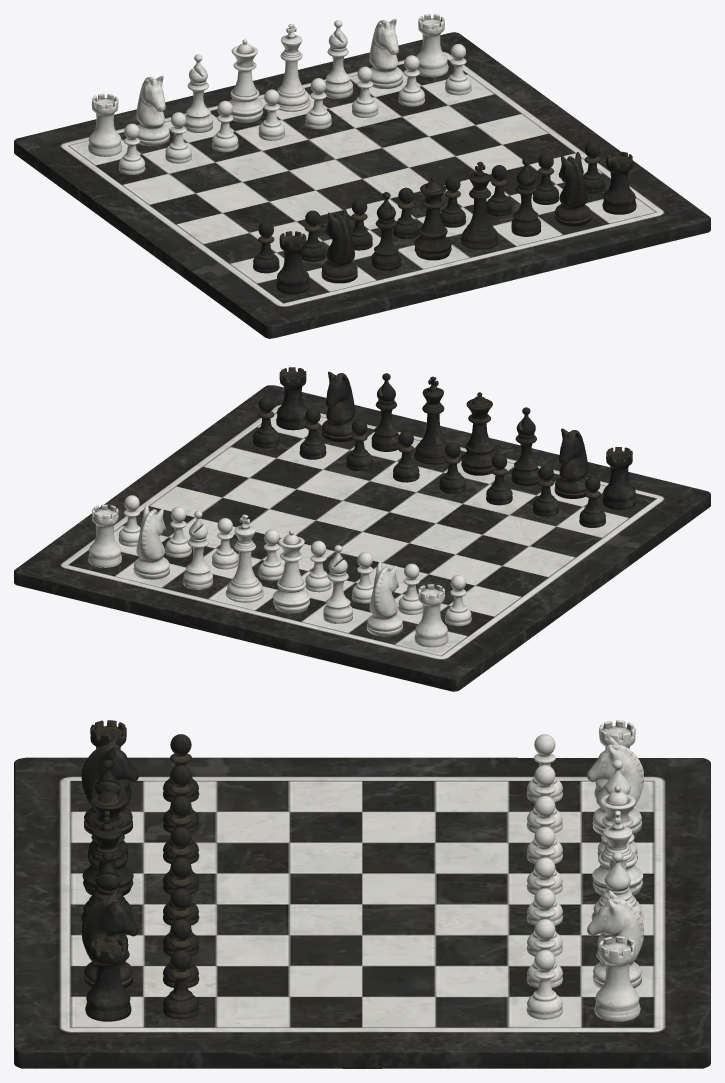
File: chess_set.glb
The picture shows the model from 3 angles, top to bottom: view 1: azimuth 30°, elevation 25°; view 2: azimuth 150°, elevation 25°; view 3: azimuth 270°, elevation 25°; orthographic projection. The views are drawn at different scales.
Visible parts, largest first — view 1: board, piece_queen_black, piece_knight_black_01, piece_knight_black_02, piece_queen_white, piece_knight_white_02, piece_knight_white_01, piece_king_black, piece_king_white, piece_rook_black_01, piece_rook_black_02, piece_rook_white_02 (+21 smaller); view 2: board, piece_queen_white, piece_knight_white_01, piece_knight_white_02, piece_queen_black, piece_knight_black_01, piece_king_white, piece_knight_black_02, piece_king_black, piece_rook_white_02, piece_rook_black_01, piece_rook_white_01 (+21 smaller); view 3: board, piece_rook_black_02, piece_rook_white_01, piece_knight_black_02, piece_knight_white_01, piece_knight_black_01, piece_knight_white_02, piece_queen_white, piece_queen_black, piece_pawn_white_01, piece_pawn_black_08, piece_king_black (+21 smaller).
Boxes of the visible parts, x1,y1,x2,y2 form: board: [14, 32, 710, 338]; piece_queen_black: [414, 177, 451, 260]; piece_knight_black_01: [321, 209, 357, 283]; piece_knight_black_02: [554, 152, 590, 226]; piece_queen_white: [228, 39, 263, 122]; piece_knight_white_02: [136, 75, 169, 145]; piece_knight_white_01: [369, 18, 402, 88]; piece_king_black: [461, 161, 499, 249]; piece_king_white: [277, 24, 310, 111]; piece_rook_black_01: [276, 231, 310, 294]; piece_rook_black_02: [602, 151, 636, 214]; piece_rook_white_02: [88, 93, 122, 156]; board: [14, 385, 710, 691]; piece_queen_white: [272, 530, 310, 613]; piece_knight_white_01: [133, 505, 169, 579]; piece_knight_white_02: [367, 562, 402, 636]; piece_queen_black: [461, 392, 495, 475]; piece_knight_black_01: [554, 428, 588, 498]; piece_king_white: [225, 514, 264, 602]; piece_knight_black_02: [321, 371, 354, 441]; piece_king_black: [414, 376, 447, 464]; piece_rook_white_02: [414, 584, 448, 647]; piece_rook_black_01: [602, 447, 636, 509]; piece_rook_white_01: [88, 504, 121, 567]; board: [14, 757, 710, 1068]; piece_rook_black_02: [85, 936, 131, 1021]; piece_rook_white_01: [594, 936, 640, 1021]; piece_knight_black_02: [81, 890, 138, 988]; piece_knight_white_01: [587, 890, 644, 988]; piece_knight_black_01: [81, 736, 138, 834]; piece_knight_white_02: [587, 736, 644, 834]; piece_queen_white: [592, 785, 643, 895]; piece_queen_black: [82, 785, 133, 895]; piece_pawn_white_01: [526, 950, 562, 1019]; piece_pawn_black_08: [163, 950, 199, 1019]; piece_king_black: [81, 810, 133, 921].
Bounding box in the file's own units: 0.5532 × 0.1124 × 0.5532.
3 materials, 3 textured.
